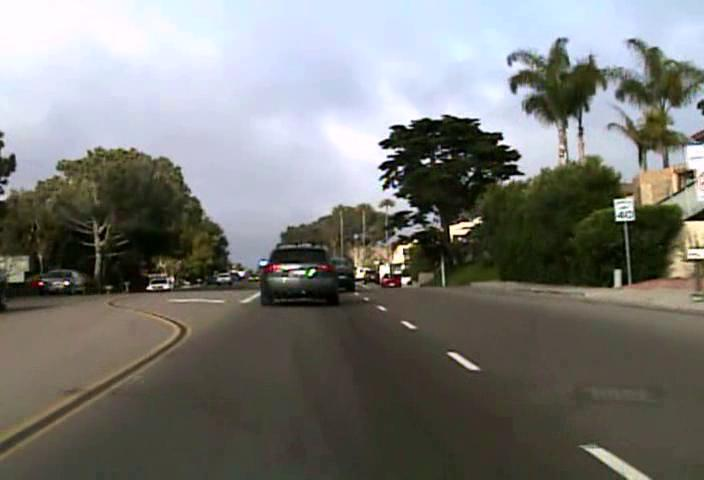speedLimit40: (613, 196, 635, 221)
